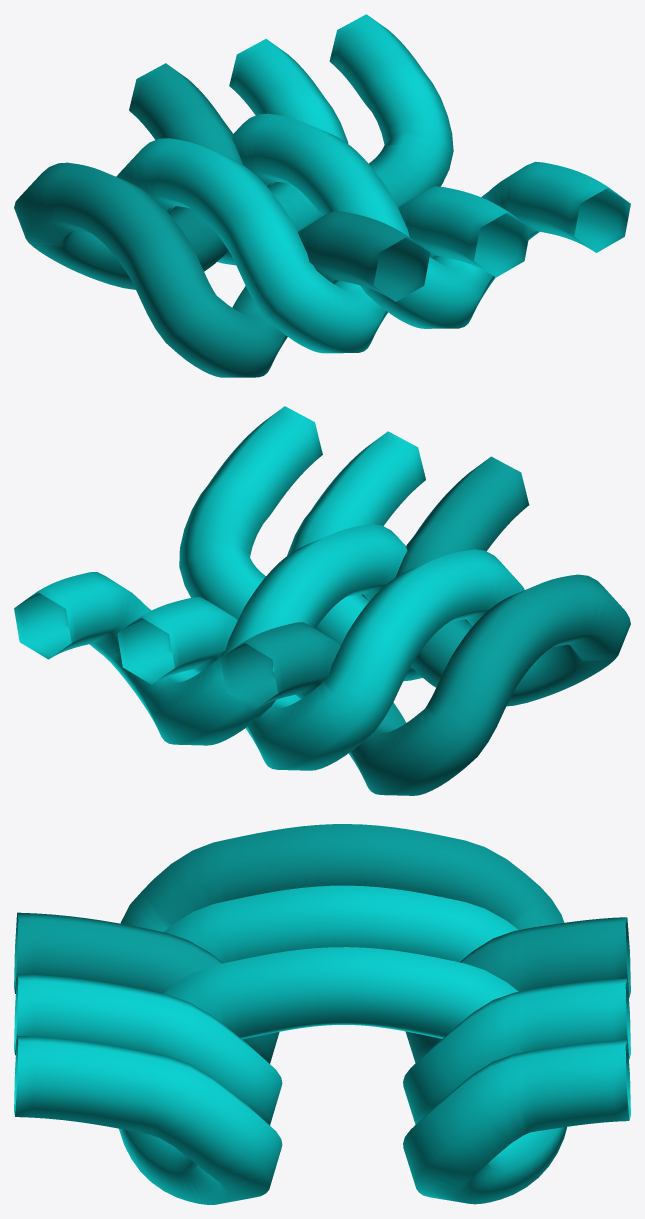
The model's file is stitch.obj.
3 views of the same model, one above another, from view 1: azimuth 30°, elevation 25°; view 2: azimuth 150°, elevation 25°; view 3: azimuth 270°, elevation 25° (orthographic). The views are drawn at different scales.
Size of the model in its own units: 2.06 by 0.7819 by 2.12.
